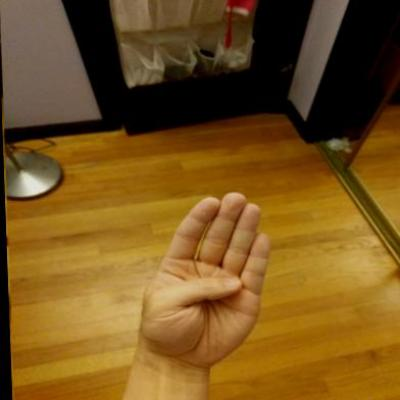hand: (120, 186, 278, 378)
